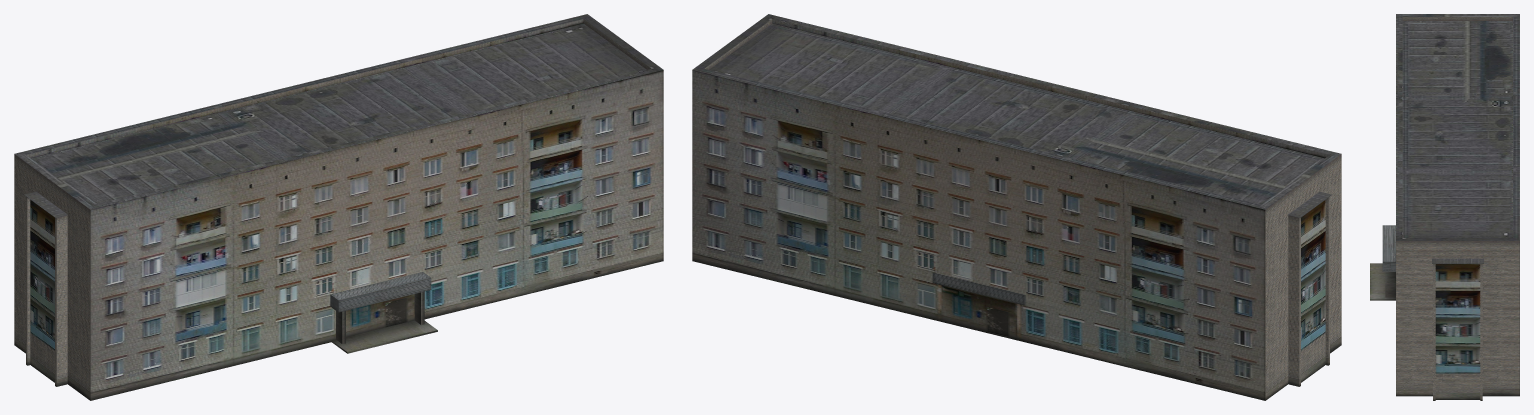
File: mediemhouse_1.fbx
3 renders of one model, left to right at view 1: azimuth 30°, elevation 25°; view 2: azimuth 150°, elevation 25°; view 3: azimuth 270°, elevation 25°, orthographic. The views are drawn at different scales.
Visible parts, largest first — view 1: 36cb63de-2782-4cb6-b44a-e75e71b99f74; view 2: 36cb63de-2782-4cb6-b44a-e75e71b99f74; view 3: 36cb63de-2782-4cb6-b44a-e75e71b99f74.
Part boxes in pixels (left/top/right/bottom): 36cb63de-2782-4cb6-b44a-e75e71b99f74: left=14, top=14, right=663, bottom=400; 36cb63de-2782-4cb6-b44a-e75e71b99f74: left=692, top=14, right=1341, bottom=400; 36cb63de-2782-4cb6-b44a-e75e71b99f74: left=1370, top=14, right=1519, bottom=400.
Bounding box in the file's own units: 47.8 × 14.59 × 12.76.
Materials: 1 (1 with a texture image).
